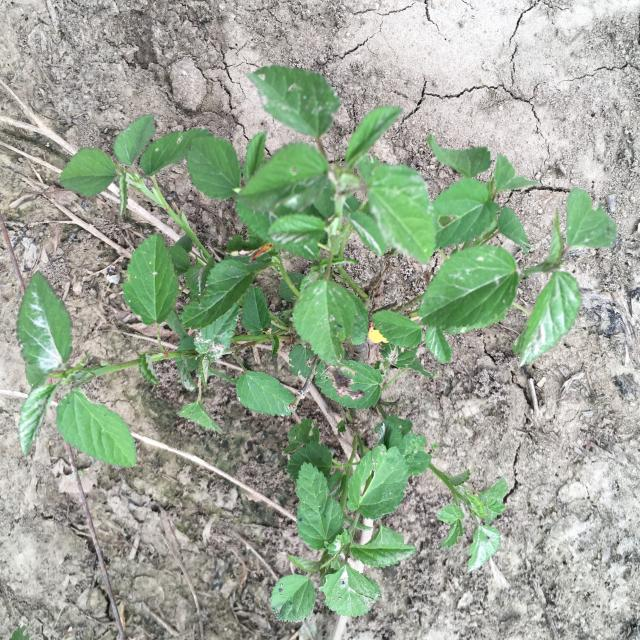PricklySida: (16, 64, 618, 622)
